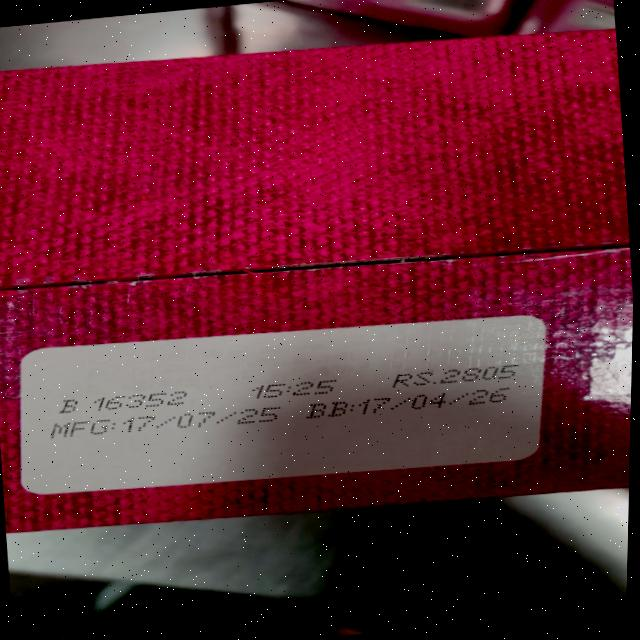BB: (307, 383, 516, 421)
Batch: (57, 386, 193, 419)
MFG: (47, 401, 286, 444)
RS: (388, 361, 523, 389)
TimeStamp: (253, 377, 340, 400)
